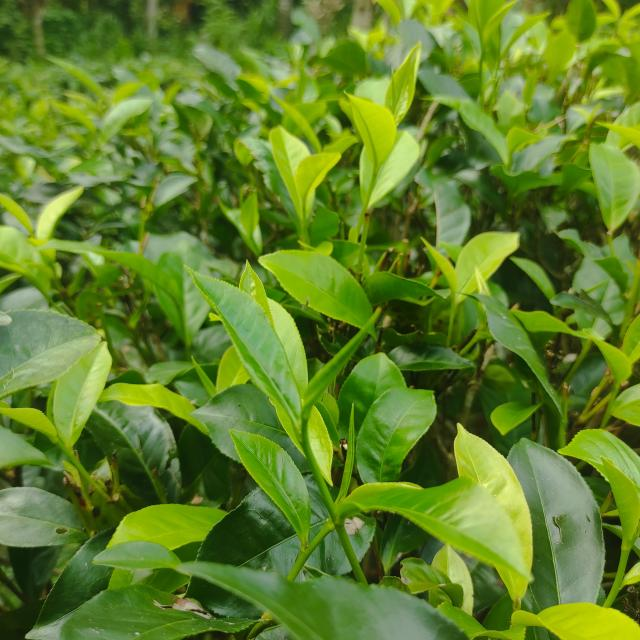unopened_leaf: (292, 302, 387, 418), (327, 398, 364, 506), (187, 348, 221, 396)
